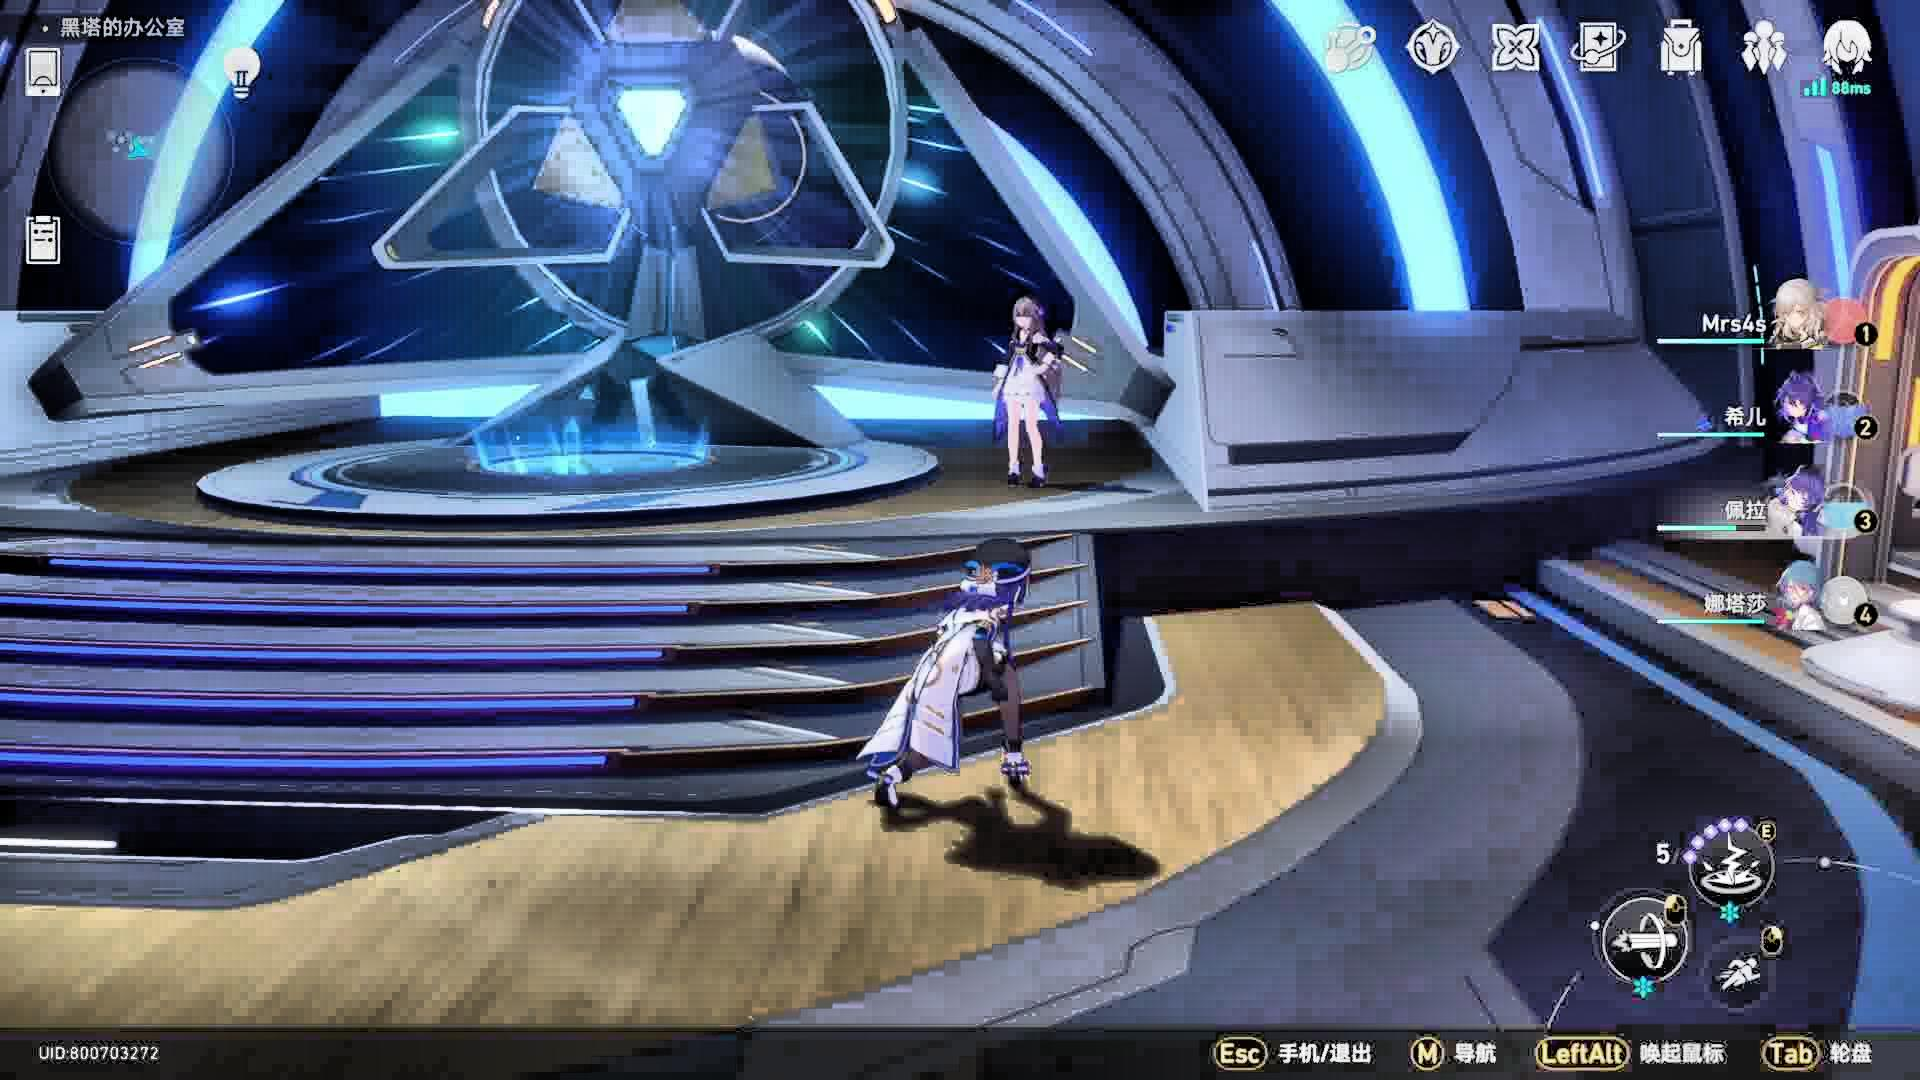Self: (855, 539, 1036, 825)
TeamMate: (990, 290, 1065, 492)
